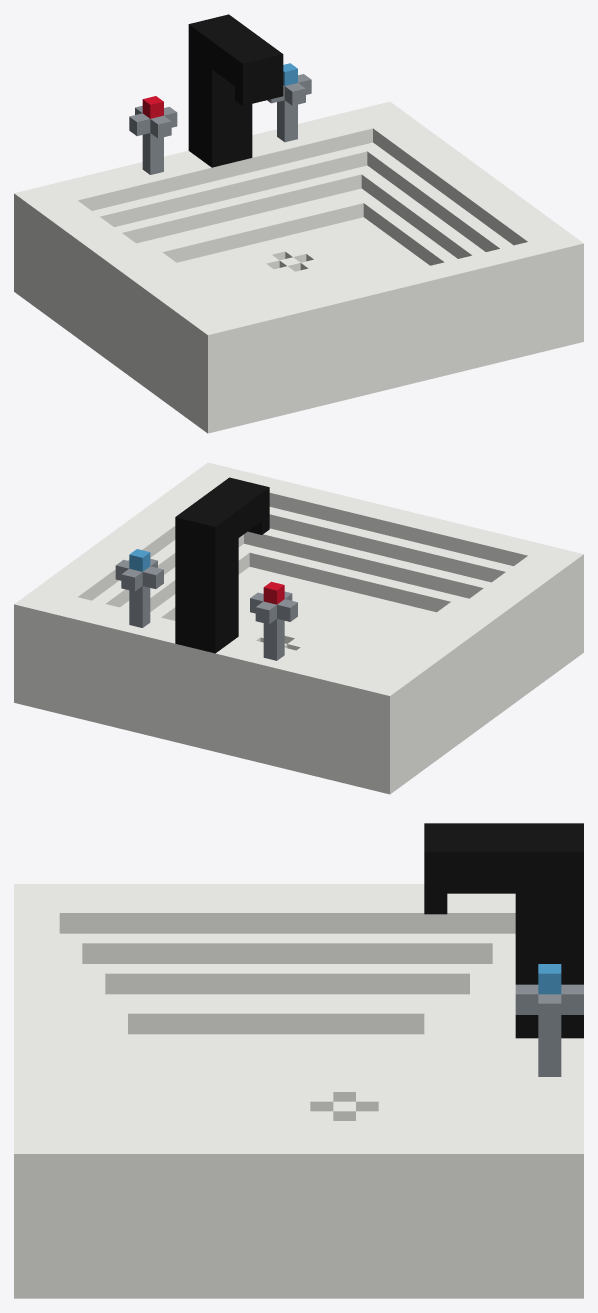
Rendered from banyo-1.obj.
The picture shows the model from 3 angles, top to bottom: view 1: azimuth 30°, elevation 25°; view 2: azimuth 150°, elevation 25°; view 3: azimuth 270°, elevation 25°; orthographic projection. The views are drawn at different scales.
Size of the model in its own units: 2.8 by 1.6 by 2.5.
1 material, 1 textured.
